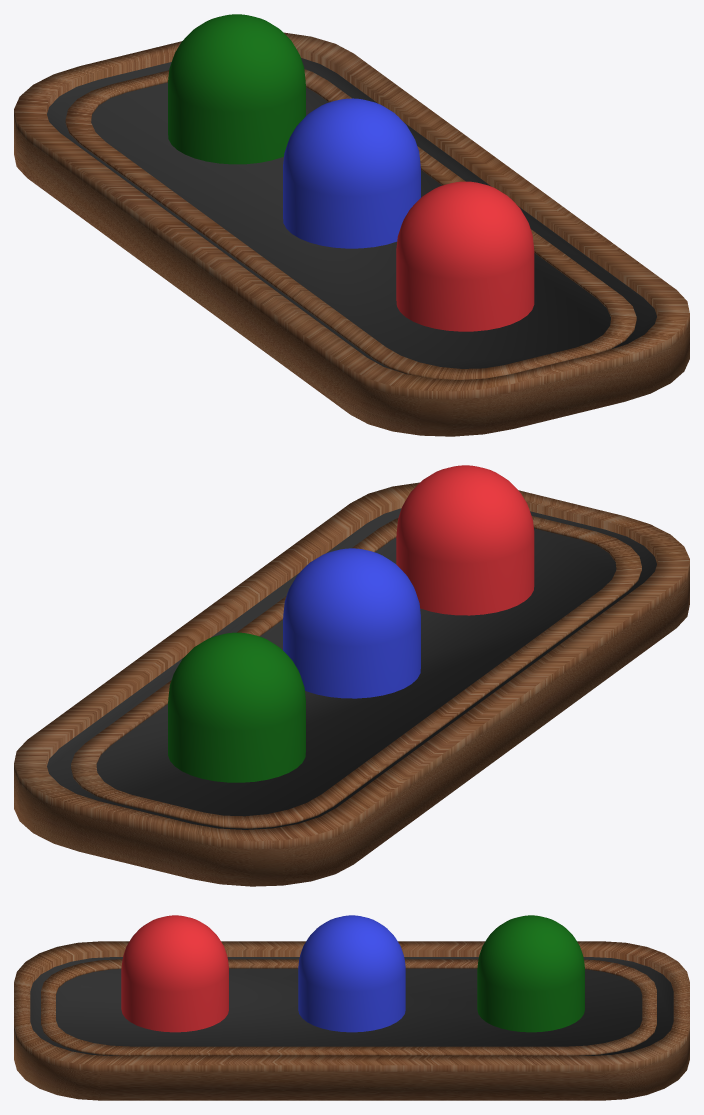
The model's file is LED.gltf.
The picture shows the model from 3 angles, top to bottom: view 1: azimuth 30°, elevation 25°; view 2: azimuth 150°, elevation 25°; view 3: azimuth 270°, elevation 25°; orthographic projection. The views are drawn at different scales.
Parts seen in each view (by area): view 1: LEDStand, Red, Green, Blue; view 2: LEDStand, Green, Blue, Red; view 3: LEDStand, Red, Green, Blue.
Boxes of the visible parts, x1,y1,x2,y2 form: LEDStand: [14, 32, 689, 436]; Red: [396, 181, 534, 331]; Green: [168, 14, 305, 164]; Blue: [283, 98, 420, 248]; LEDStand: [14, 482, 689, 886]; Green: [168, 632, 305, 782]; Blue: [283, 548, 420, 698]; Red: [396, 465, 534, 615]; LEDStand: [14, 941, 689, 1100]; Red: [121, 915, 228, 1032]; Green: [477, 915, 584, 1032]; Blue: [298, 915, 405, 1032].
Size of the model in its own units: 0.0662 by 0.0294 by 0.1524.
Materials: 5 (1 with a texture image).
